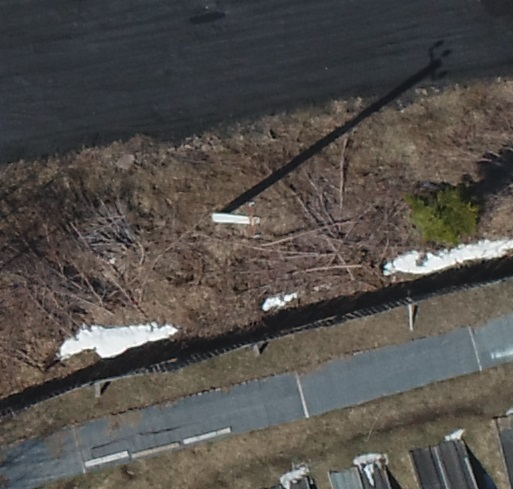opora: (209, 181, 266, 241)
